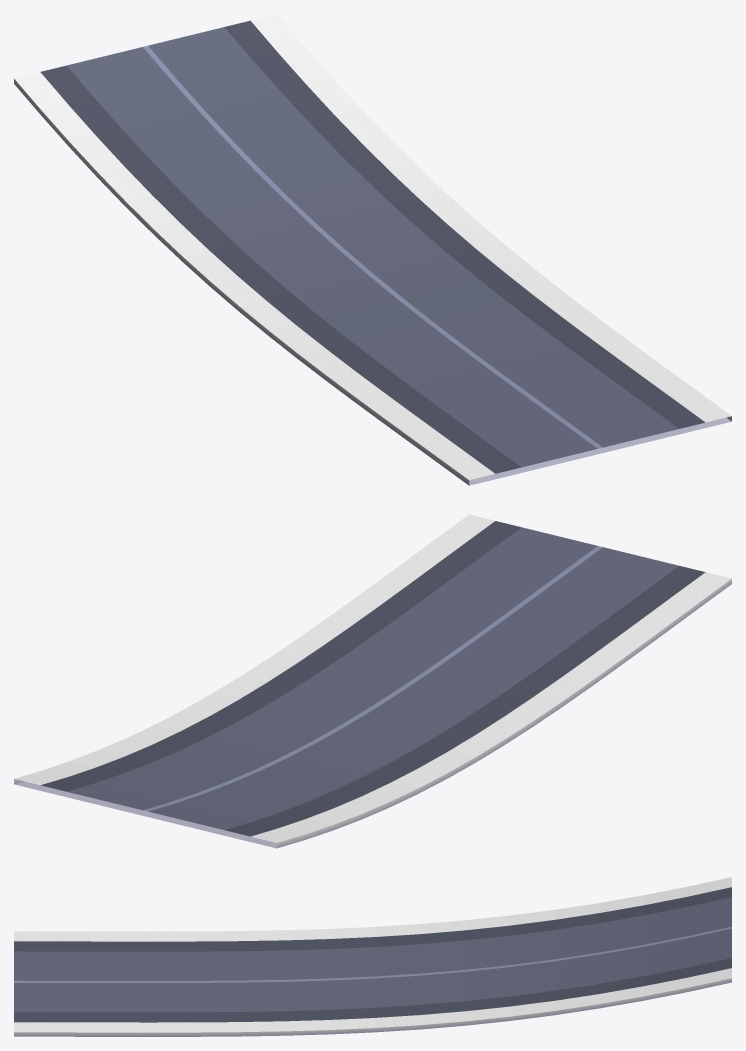
The model's file is road-Straight-Flat-BiSlopeUp-Up1-Center-Size3.glb.
The picture shows the model from 3 angles, top to bottom: view 1: azimuth 30°, elevation 25°; view 2: azimuth 150°, elevation 25°; view 3: azimuth 270°, elevation 25°; orthographic projection. The views are drawn at different scales.
Parts seen in each view (by area): view 1: road-Straight-Flat-BiSlopeUp-Up1-Center-Size3; view 2: road-Straight-Flat-BiSlopeUp-Up1-Center-Size3; view 3: road-Straight-Flat-BiSlopeUp-Up1-Center-Size3.
Boxes of the visible parts, box(x1,y1,x2,y2) form: road-Straight-Flat-BiSlopeUp-Up1-Center-Size3: box(14, 14, 731, 485); road-Straight-Flat-BiSlopeUp-Up1-Center-Size3: box(14, 514, 731, 848); road-Straight-Flat-BiSlopeUp-Up1-Center-Size3: box(14, 877, 731, 1036).
Size of the model in its own units: 1 by 0.271 by 3.
Materials: 1 (1 with a texture image).
